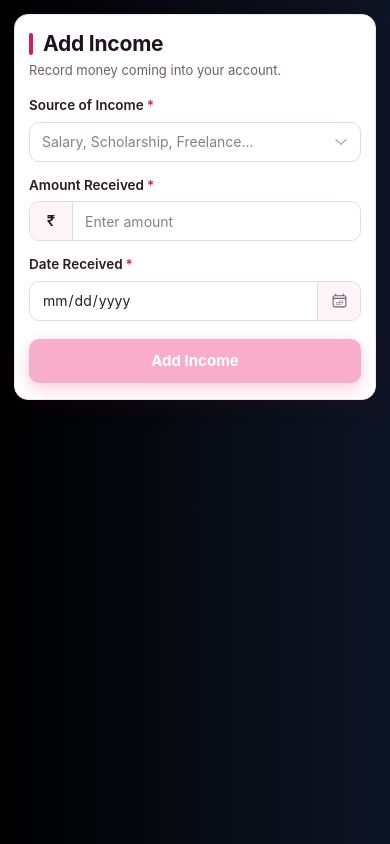
it: AddIncome -- Source of Income suggestions are the user's saved sources only › toggles from the chevron and closes on a press outside the field
The width and height of the screenshot is (390, 844).
Press the mouse on the icon with class "add-income-select-icon": (341, 142) [333, 134, 349, 150]
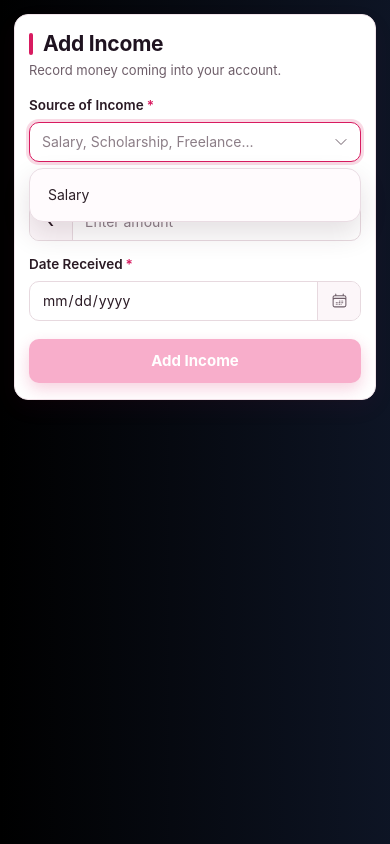
Press the mouse on the icon with class "add-income-select-icon": (341, 142) [333, 134, 349, 150]
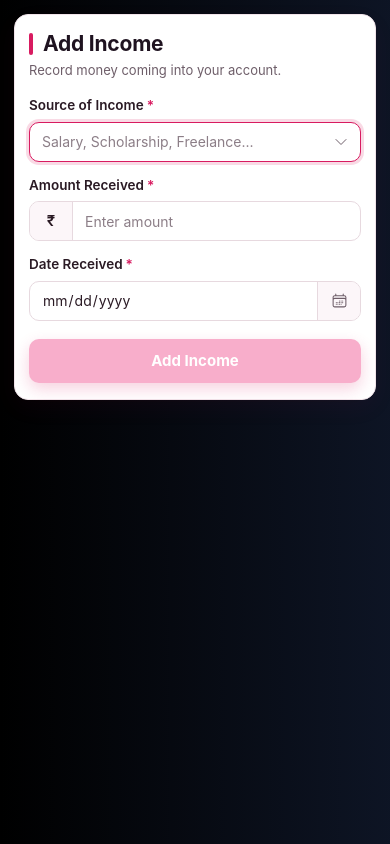
Check: the list is gone
Press the mouse on the icon with class "add-income-select-icon": (341, 142) [333, 134, 349, 150]
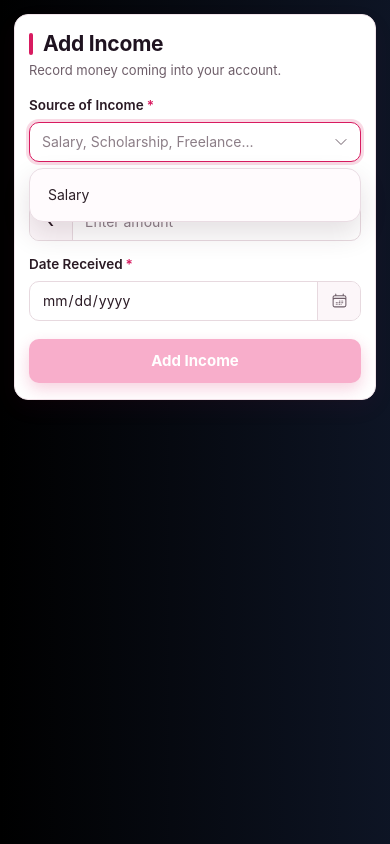
Press the mouse on the element that starts with "Add Income": (195, 225) [0, 0, 389, 450]
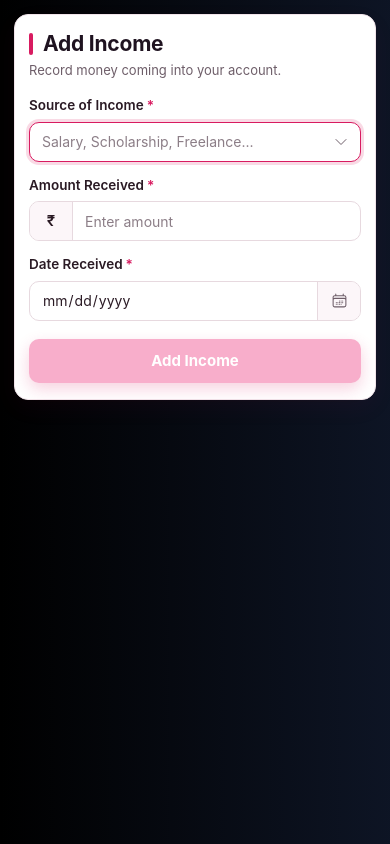
Check: the list is gone
